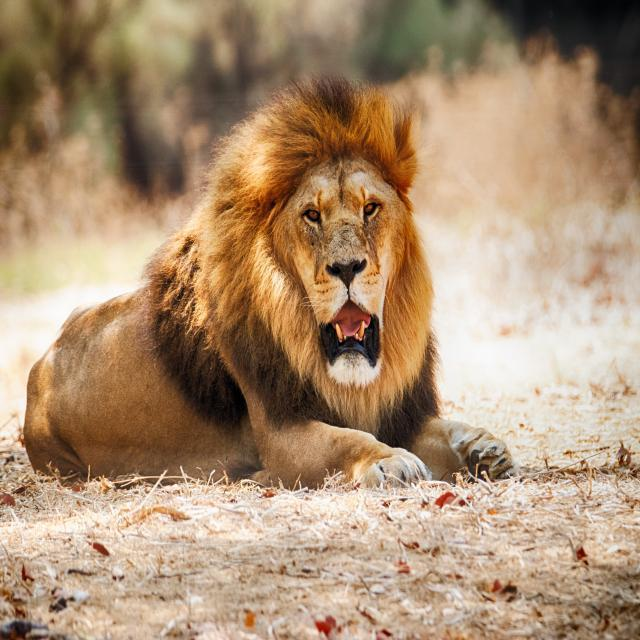lions: (17, 51, 601, 605)
